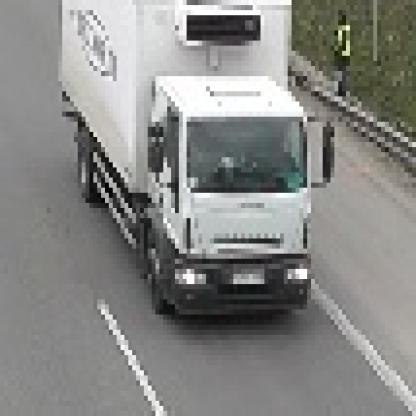truck: (55, 1, 327, 310)
